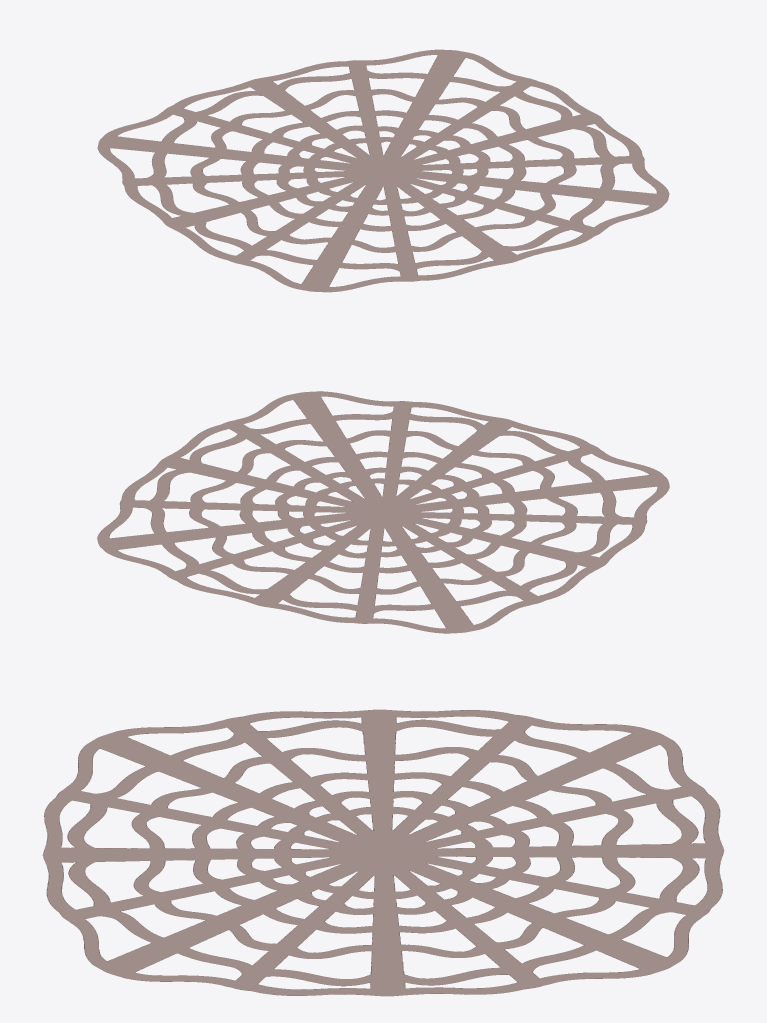
File: red pescados animada (2).fbx
The picture shows the model from 3 angles, top to bottom: view 1: azimuth 30°, elevation 25°; view 2: azimuth 150°, elevation 25°; view 3: azimuth 270°, elevation 25°; orthographic projection. The views are drawn at different scales.
Parts seen in each view (by area): view 1: Plane; view 2: Plane; view 3: Plane.
Part boxes in pixels (x1,y1,x2,y2): Plane: [97, 49, 669, 292]; Plane: [97, 391, 669, 633]; Plane: [42, 709, 724, 996].
Size of the model in its own units: 1075 by 3.12 by 1075.
Materials: 1 (1 with a texture image).
